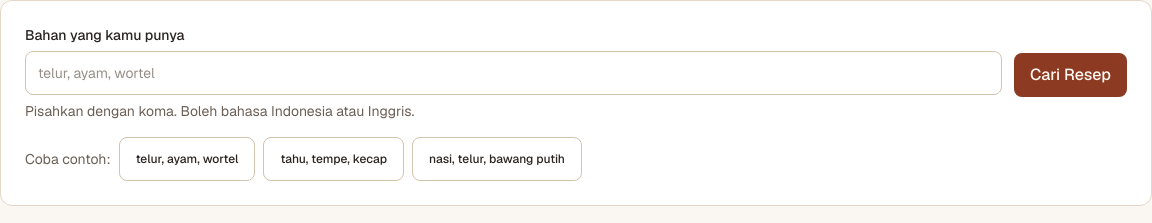
Test: IngredientInput › input kosong memblokir submit dan menampilkan pesan
Click the button "Cari Resep" at (1070, 75), box [1014,53,1127,97]
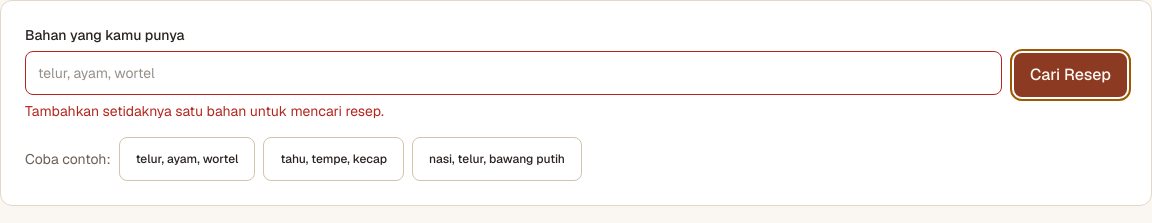
Expected: the message reads "Tambahkan setidaknya satu bahan untuk mencari resep.", [25,102,384,120]
